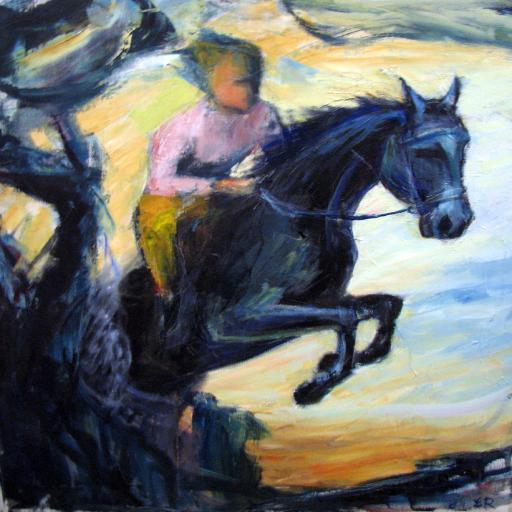horse: (114, 72, 477, 420)
